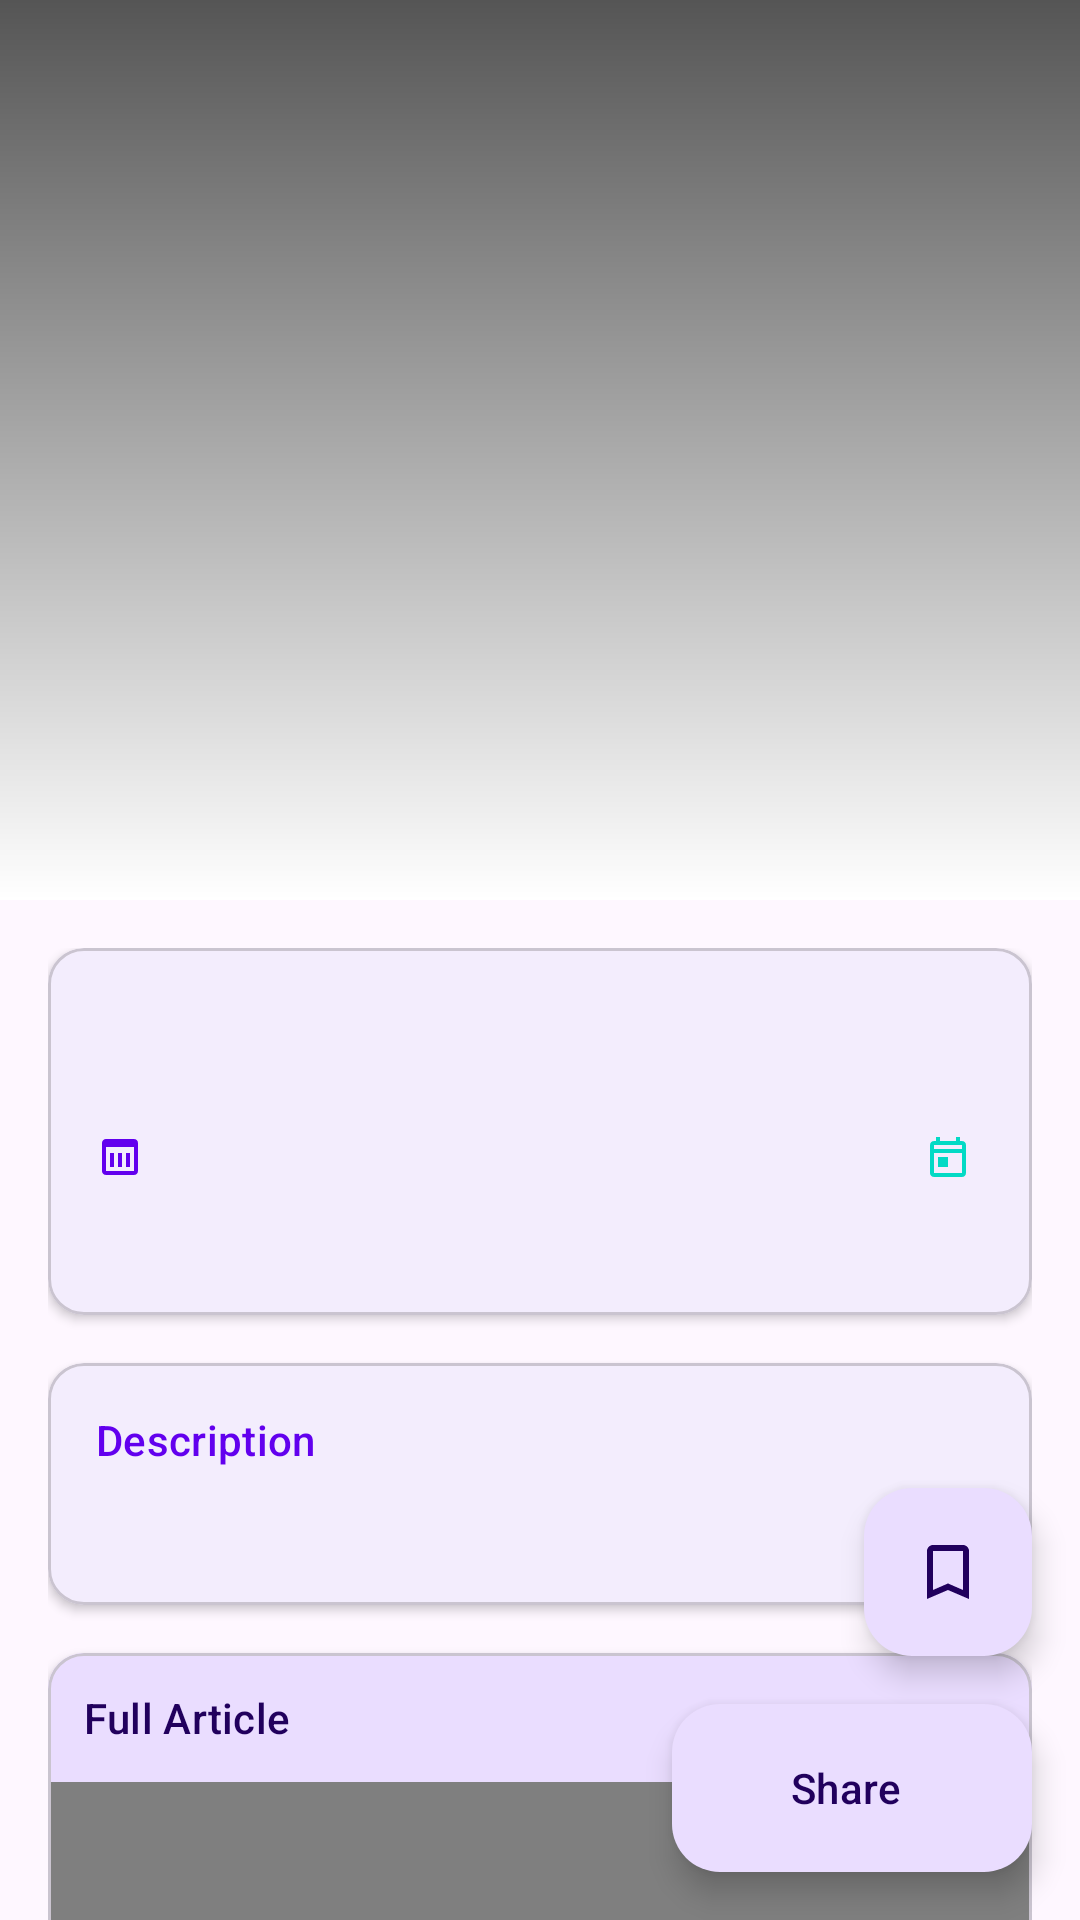

Icons on this 1080 x 1920 Android screen, each with its box as BBox(x1, y1, x2, y2):
Date Icon: BBox(930, 1137, 966, 1177)
Save Article: BBox(864, 1488, 1032, 1656)
Source Icon: BBox(102, 1139, 138, 1175)
